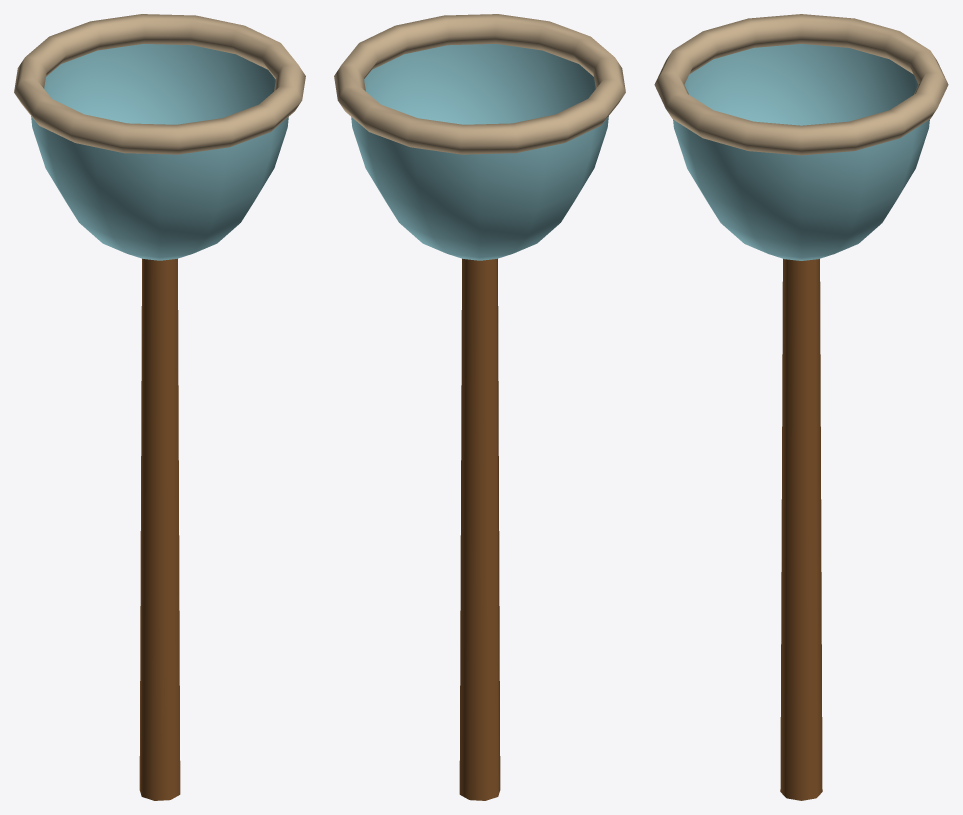
Rendered from net.glb.
3 renders of one model, left to right at view 1: azimuth 30°, elevation 25°; view 2: azimuth 150°, elevation 25°; view 3: azimuth 270°, elevation 25°, orthographic.
Parts seen in each view (by area): view 1: net_mesh; view 2: net_mesh; view 3: net_mesh.
Part boxes in pixels (<box>): net_mesh: <box>14,14,305,800</box>; net_mesh: <box>334,14,625,800</box>; net_mesh: <box>654,14,948,800</box>.
Size of the model in its own units: 0.49 by 1.32 by 0.49.
